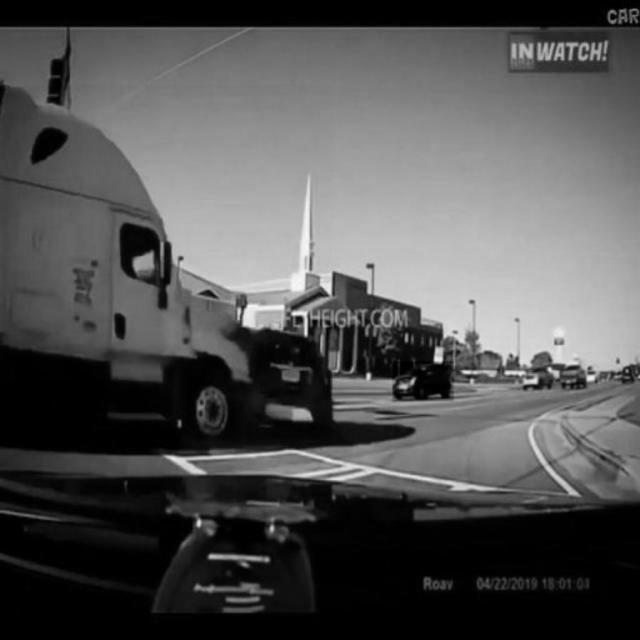accident: (3, 85, 333, 439)
vehicle: (393, 361, 454, 401)
